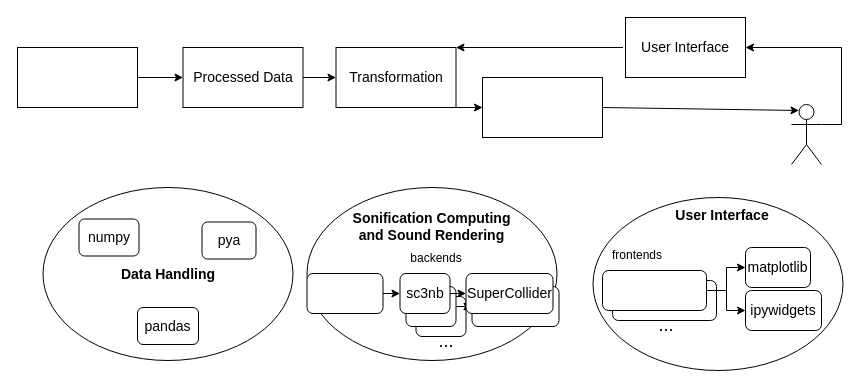
Image size: 867x388. Some labels were removed from this diagram. Here are the shapes that lost their labels. From the top down, the centre of each, then its label:
At point (77, 77): "Raw Data".
At point (542, 107): "Sound".
At point (806, 134): "user".
At point (344, 293): "mesonic".
At point (654, 290): "IPython/Jupyter".
